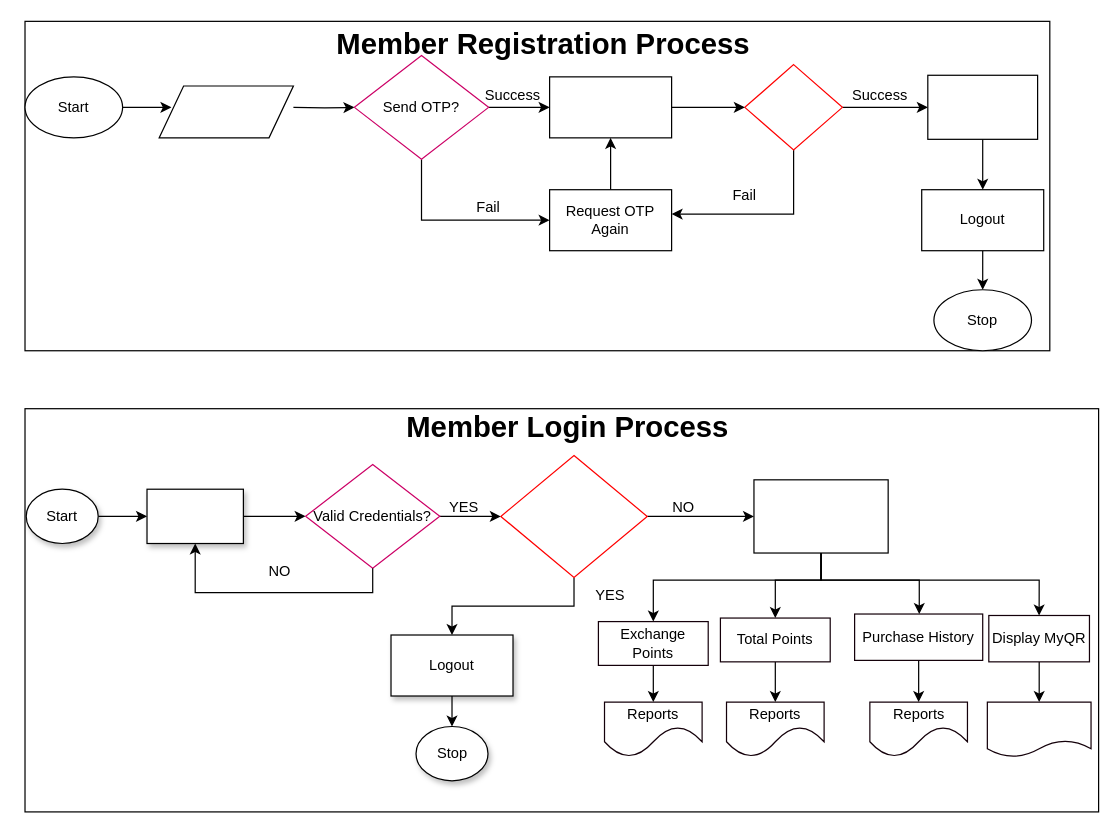
Some shapes in this 1120 by 833 pixel diagram are drawn without their labels. The shapes that lost their labels are listed below. From the top down, each one's centre as x and y in pixels, then its label:
At point (225, 111): "Register".
At point (610, 107): "Verify OTP".
At point (793, 106): "Valid OTP?".
At point (982, 106): "User Home".
At point (196, 517): "Login".
At point (573, 515): "IsLogin AtOtherDevices?".
At point (820, 516): "Dasoboard".
At point (1038, 729): "Save to Glary".
